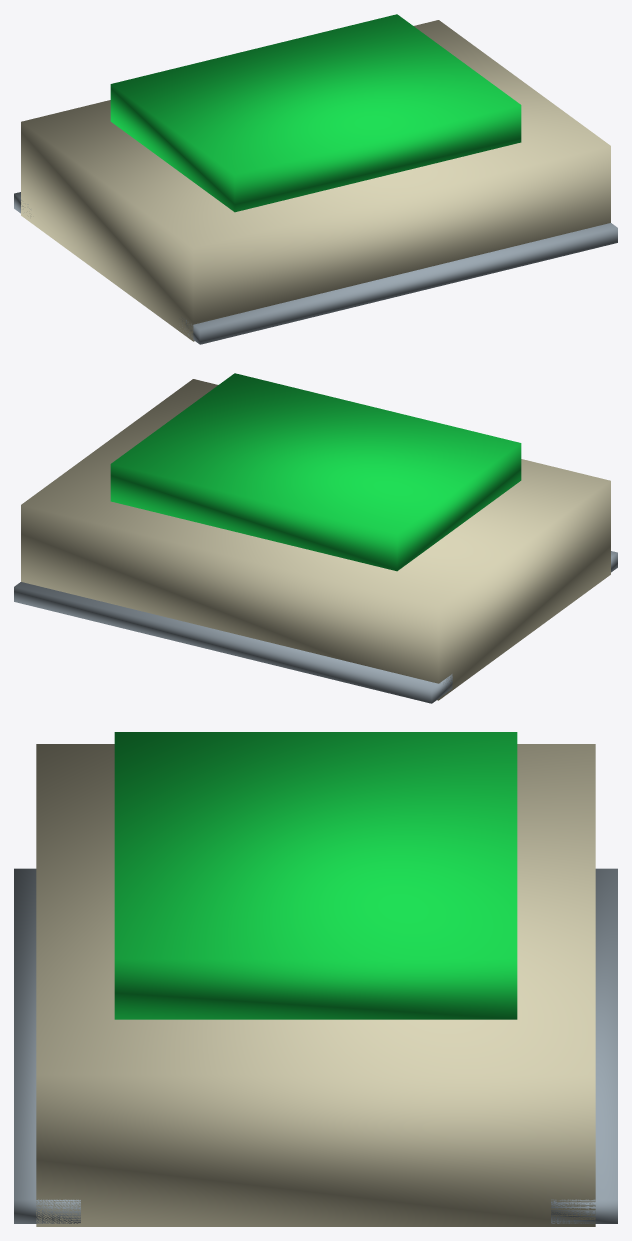
File: 058_L100_LED1.obj
The picture shows the model from 3 angles, top to bottom: view 1: azimuth 30°, elevation 25°; view 2: azimuth 150°, elevation 25°; view 3: azimuth 270°, elevation 25°; orthographic projection. The views are drawn at different scales.
Parts seen in each view (by area): view 1: Emitter_Housing__PSMAT__Ceramic_Ivory, Green_Lens__PSMAT__LED_Green, LED_Terminal_0__PSMAT__Solder_Tin; view 2: Emitter_Housing__PSMAT__Ceramic_Ivory, Green_Lens__PSMAT__LED_Green, LED_Terminal_1__PSMAT__Solder_Tin; view 3: Emitter_Housing__PSMAT__Ceramic_Ivory, Green_Lens__PSMAT__LED_Green, LED_Terminal_0__PSMAT__Solder_Tin, LED_Terminal_1__PSMAT__Solder_Tin.
Boxes of the visible parts, left/top/right/bottom form: Emitter_Housing__PSMAT__Ceramic_Ivory: left=21, top=20, right=610, bottom=341; Green_Lens__PSMAT__LED_Green: left=110, top=14, right=521, bottom=212; LED_Terminal_0__PSMAT__Solder_Tin: left=182, top=223, right=617, bottom=344; Emitter_Housing__PSMAT__Ceramic_Ivory: left=21, top=379, right=610, bottom=700; Green_Lens__PSMAT__LED_Green: left=110, top=373, right=521, bottom=571; LED_Terminal_1__PSMAT__Solder_Tin: left=14, top=582, right=452, bottom=703; Emitter_Housing__PSMAT__Ceramic_Ivory: left=36, top=744, right=595, bottom=1226; Green_Lens__PSMAT__LED_Green: left=114, top=732, right=517, bottom=1019; LED_Terminal_0__PSMAT__Solder_Tin: left=14, top=868, right=80, bottom=1223; LED_Terminal_1__PSMAT__Solder_Tin: left=551, top=868, right=617, bottom=1223.
Bounding box in the file's own units: 0.0035 × 0.00107 × 0.0027.
3 materials, 3 textured.
